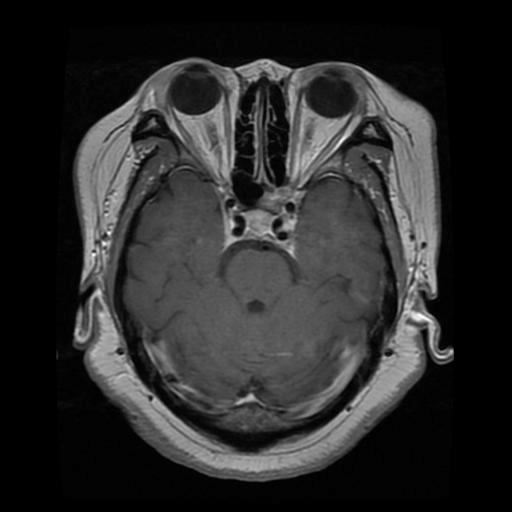Tumour-Pituitary: (224, 196, 300, 249)
